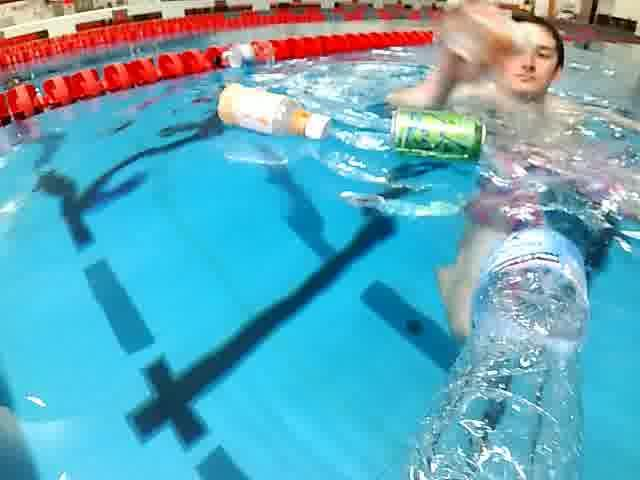Bottle: (399, 196, 612, 480), (208, 78, 336, 148)
Can: (387, 101, 497, 162)
